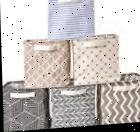cube: (21, 38, 73, 91), (71, 36, 122, 87), (2, 79, 51, 132), (47, 85, 99, 129)
